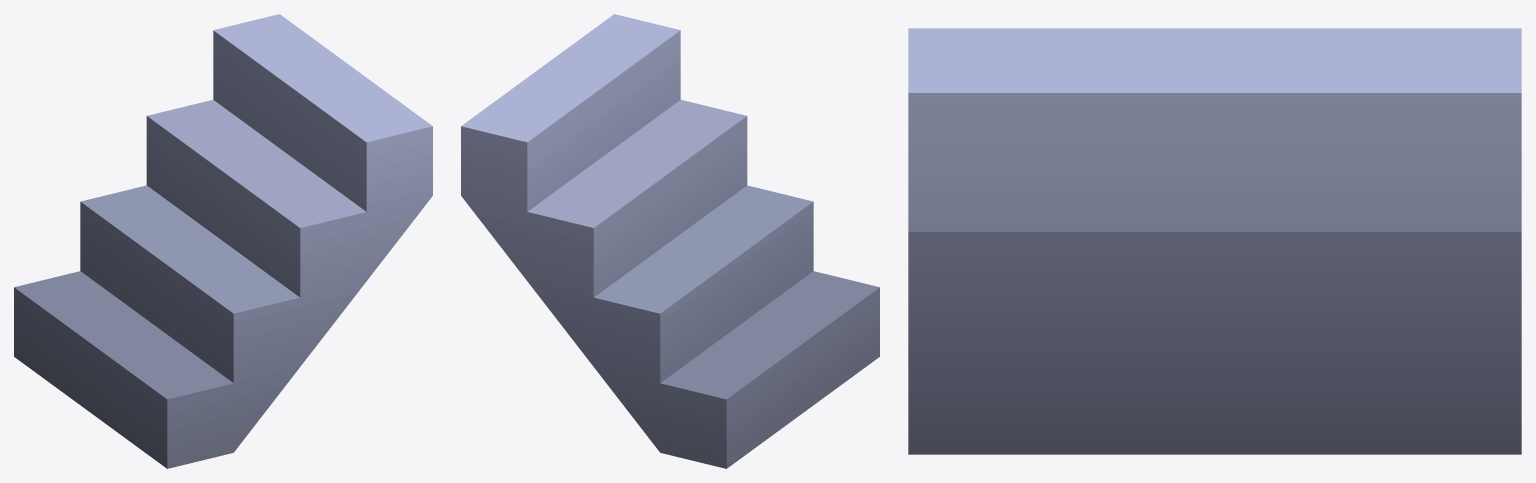
Rendered from stairs-diagonal.fbx.
3 views of the same model, side by side, from view 1: azimuth 30°, elevation 25°; view 2: azimuth 150°, elevation 25°; view 3: azimuth 270°, elevation 25° (orthographic). The views are drawn at different scales.
Parts seen in each view (by area): view 1: stairs-diagonal; view 2: stairs-diagonal; view 3: stairs-diagonal.
Part boxes in pixels (bbox=[...]): stairs-diagonal: bbox=[14, 14, 432, 468]; stairs-diagonal: bbox=[461, 14, 879, 468]; stairs-diagonal: bbox=[908, 28, 1521, 454].
Bounding box in the file's own units: 100 × 100 × 100.
